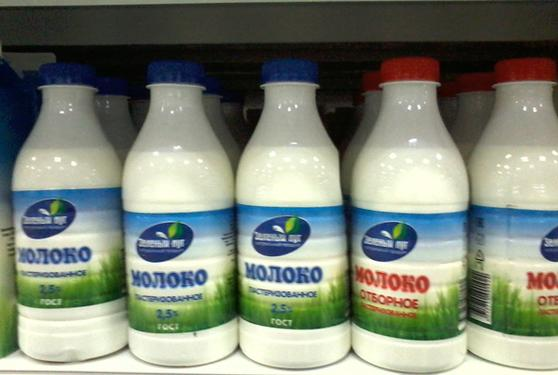milk: (232, 65, 354, 375), (359, 69, 469, 375)
